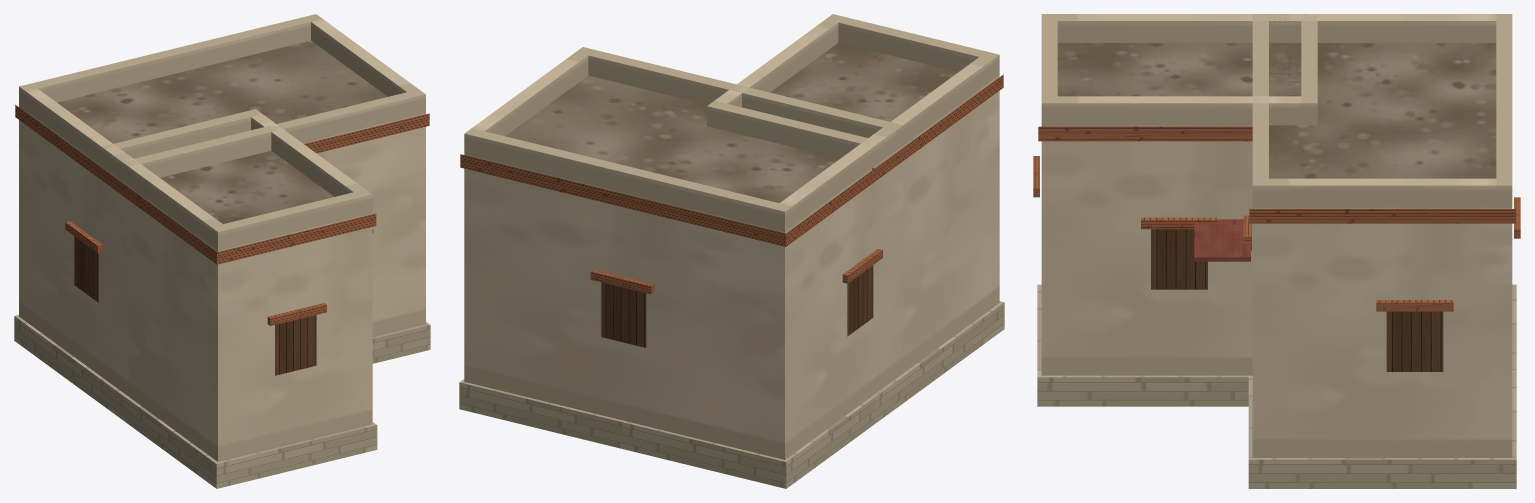
Rendered from ae_sand_stone_medium_court_lod1.glb.
3 views of the same model, side by side, from view 1: azimuth 30°, elevation 25°; view 2: azimuth 150°, elevation 25°; view 3: azimuth 270°, elevation 25° (orthographic). The views are drawn at different scales.
Visible parts, largest first — view 1: ae_sand_stone_medium_court_lod1; view 2: ae_sand_stone_medium_court_lod1; view 3: ae_sand_stone_medium_court_lod1.
Boxes of the visible parts, x1,y1,x2,y2 form: ae_sand_stone_medium_court_lod1: [14, 14, 430, 488]; ae_sand_stone_medium_court_lod1: [459, 14, 1004, 488]; ae_sand_stone_medium_court_lod1: [1033, 14, 1520, 488].
Bounding box in the file's own units: 5.2 × 4.1 × 6.
1 material, 1 textured.
